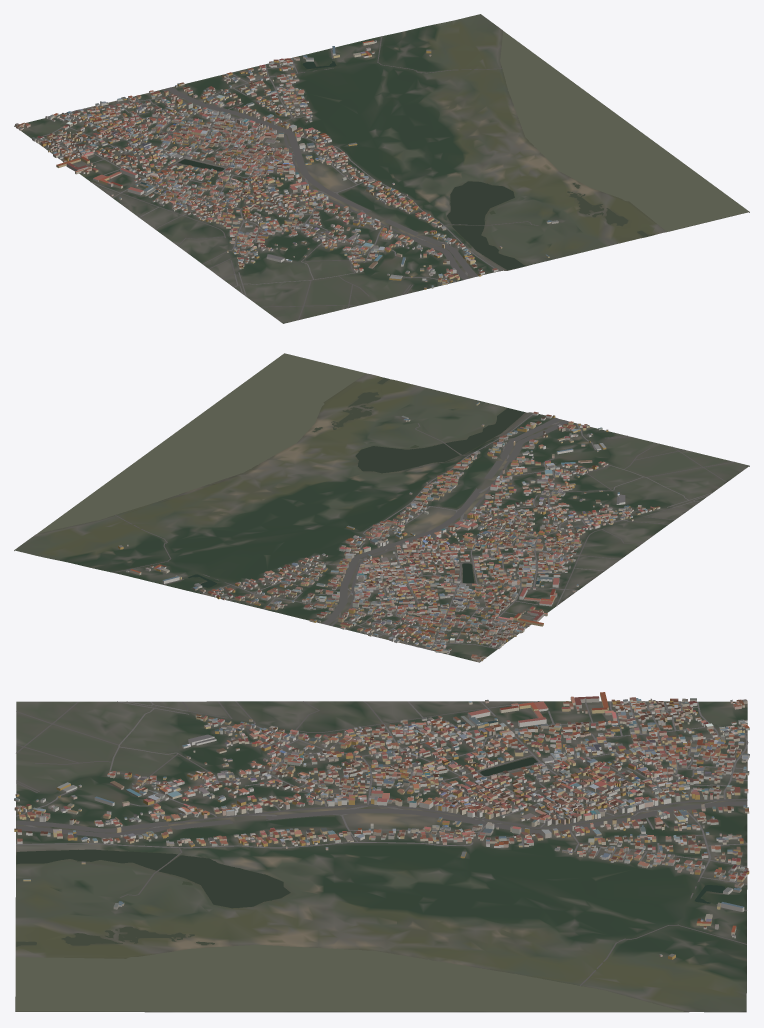
3 renders of one model, top to bottom at view 1: azimuth 30°, elevation 25°; view 2: azimuth 150°, elevation 25°; view 3: azimuth 270°, elevation 25°, orthographic. The views are drawn at different scales.
Parts seen in each view (by area): view 1: ground, buildings, water, roads; view 2: ground, buildings, water, roads; view 3: ground, buildings, water, roads.
Boxes of the visible parts, x1,y1,x2,y2 form: ground: (14, 14, 749, 323); buildings: (15, 40, 558, 289); water: (178, 31, 748, 270); roads: (35, 36, 538, 320); ground: (14, 355, 749, 662); buildings: (118, 402, 660, 661); water: (38, 353, 524, 587); roads: (112, 414, 734, 650); ground: (15, 701, 747, 1012); buildings: (14, 692, 749, 959); water: (16, 757, 725, 1011); roads: (16, 701, 748, 985).
Size of the model in its own units: 1429 by 21.64 by 1411.
